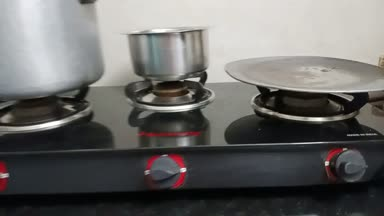flame_gas_off: (257, 86, 380, 184), (128, 77, 213, 194)
